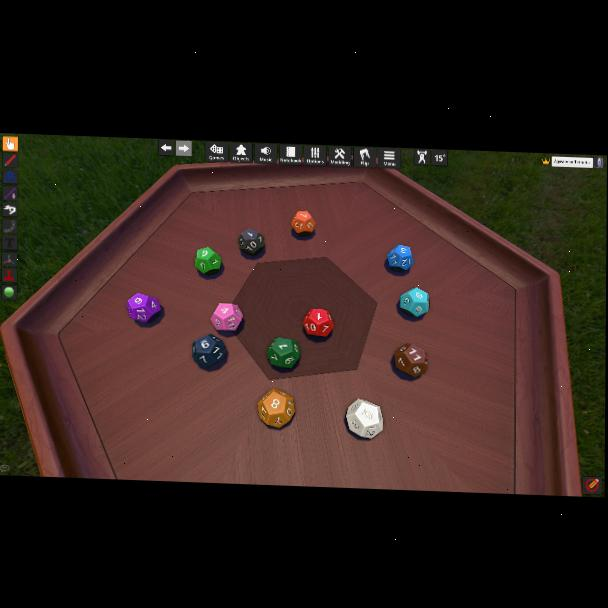d12: (257, 389, 295, 430), (345, 397, 381, 438), (192, 334, 225, 369), (128, 292, 162, 325), (267, 337, 300, 370), (394, 343, 425, 378), (302, 308, 333, 338), (399, 288, 428, 319), (211, 303, 241, 332), (195, 246, 222, 275), (387, 244, 413, 273), (238, 228, 264, 256), (291, 210, 316, 237)
